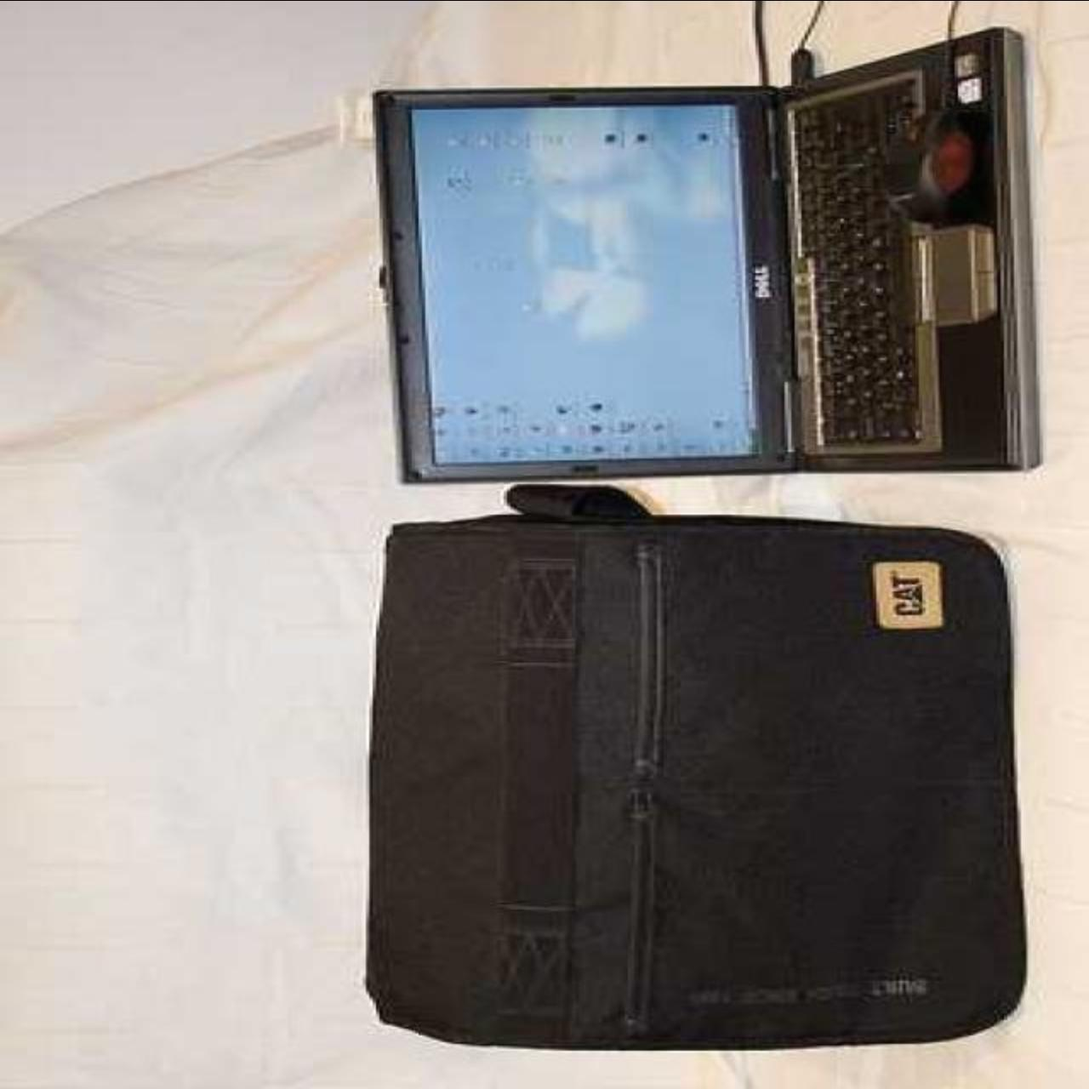laptop: (380, 32, 1008, 492)
